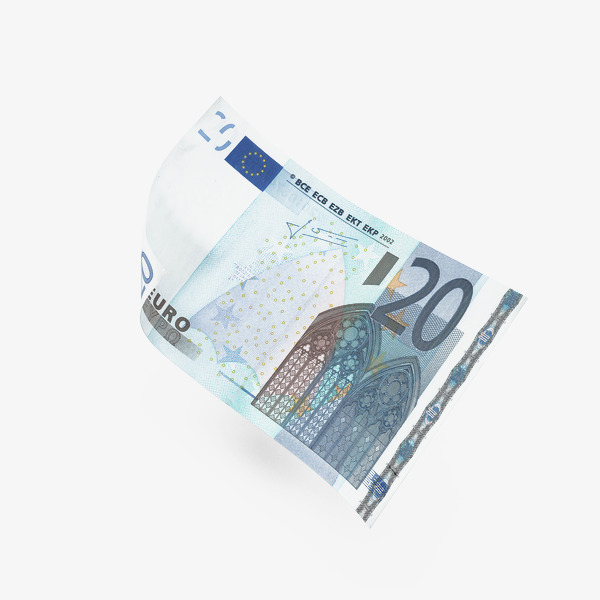billete: (137, 92, 530, 536)
